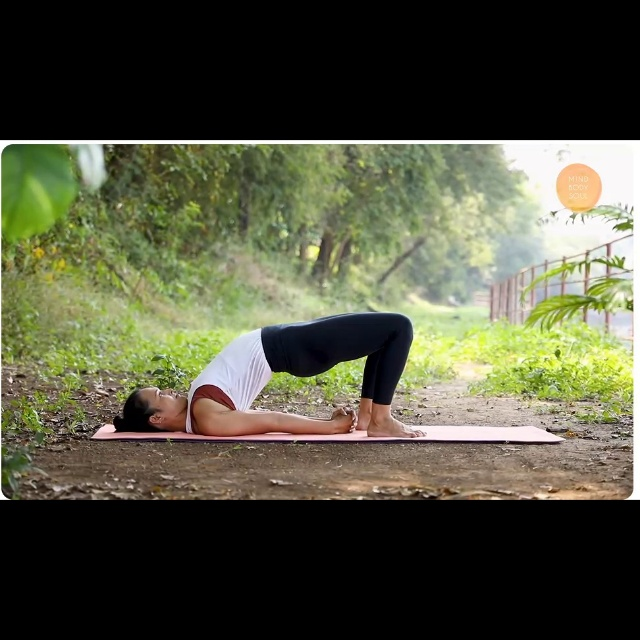Bridge_Pose: (111, 311, 429, 438)
